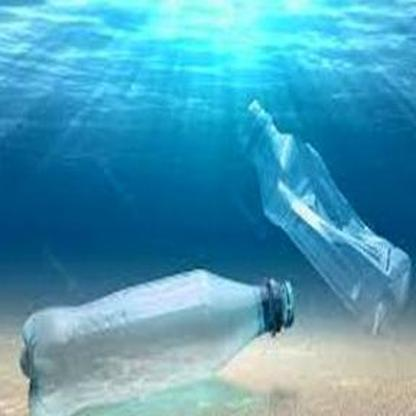plastic bottle: (234, 99, 413, 332), (20, 267, 295, 413)
